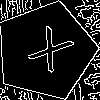X: (20, 26, 75, 82)
